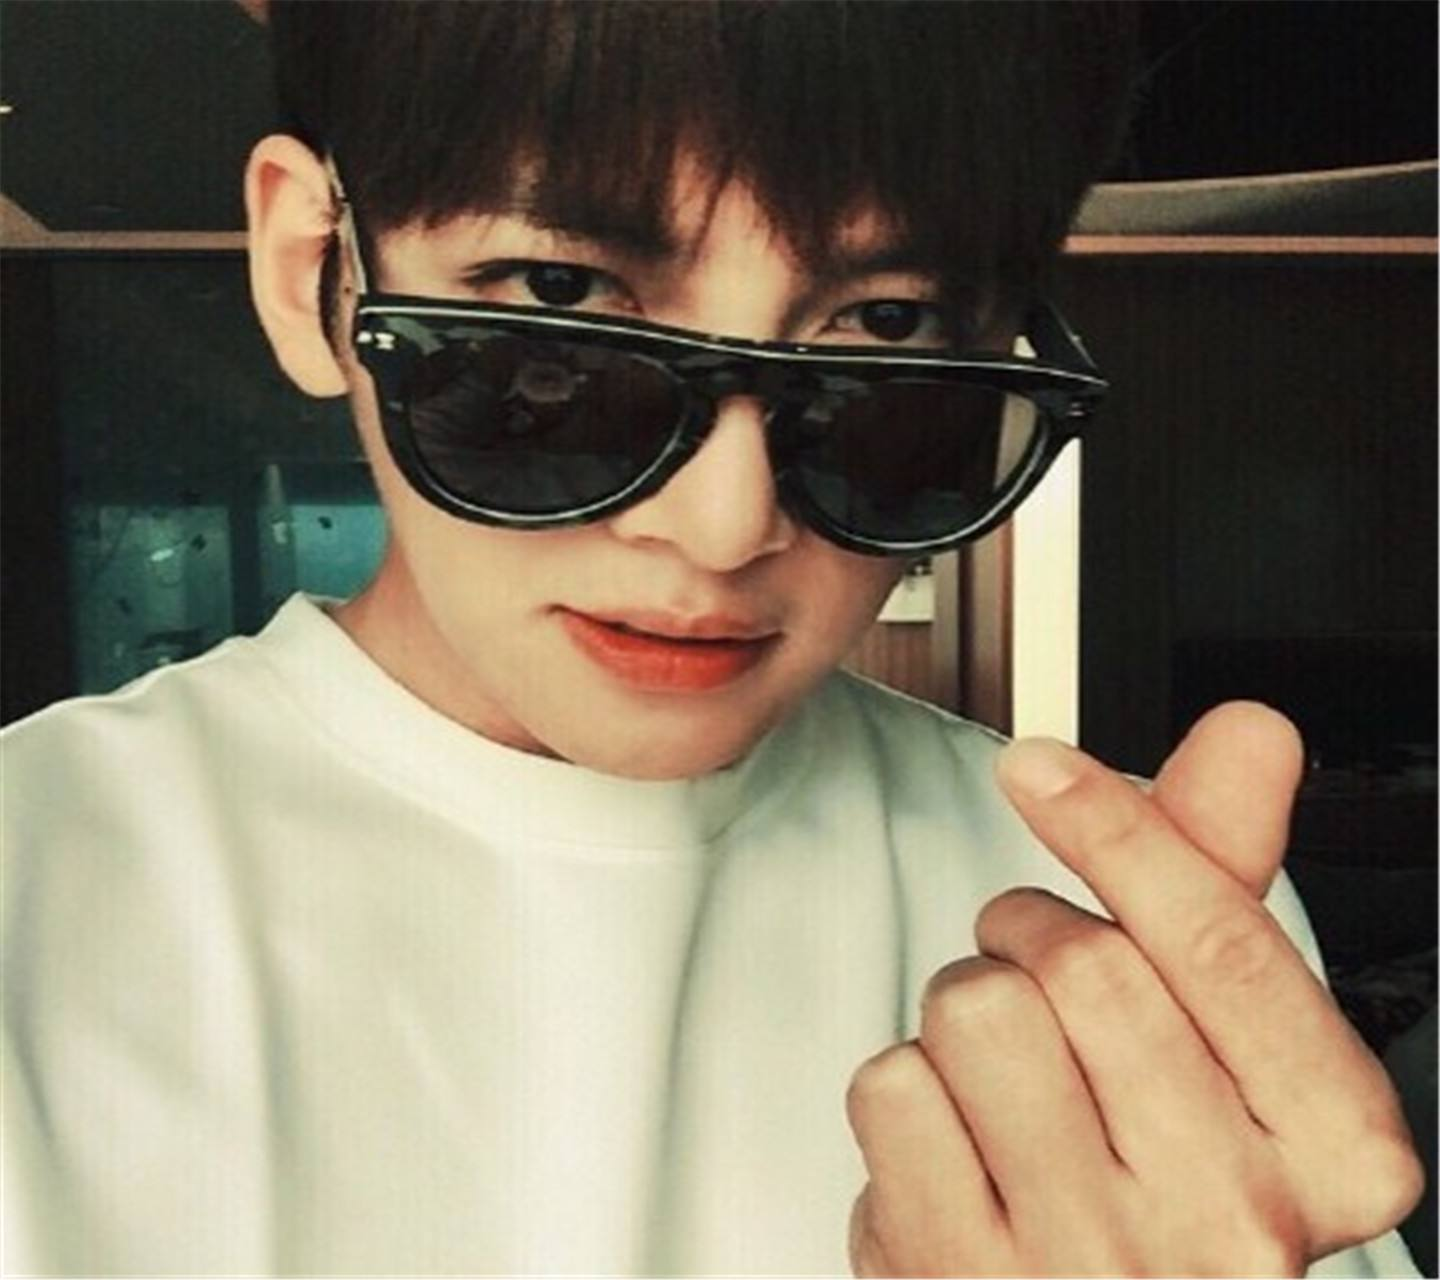person: (181, 38, 1264, 1280)
